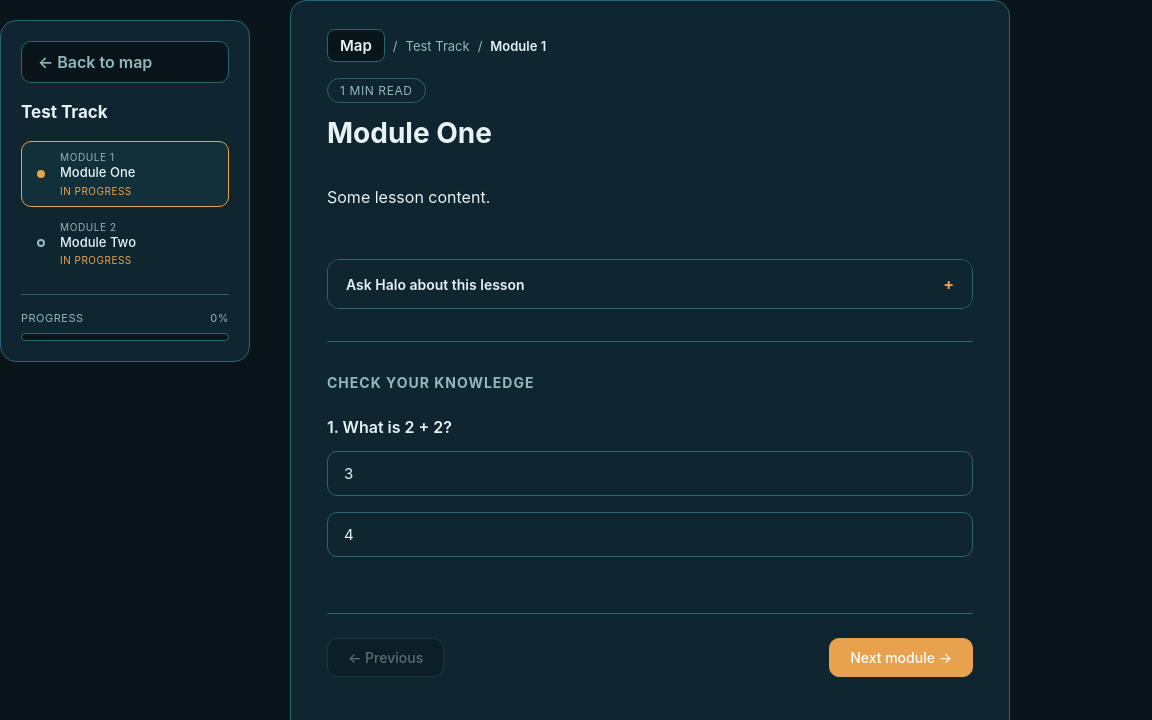
Test: ModuleLayout quiz › awards 3 stars on a first-try perfect run
What coordinates should you click on to do the following:
click the button "4"
I would click on:
 (349, 535)
Its box is [327, 512, 973, 557].
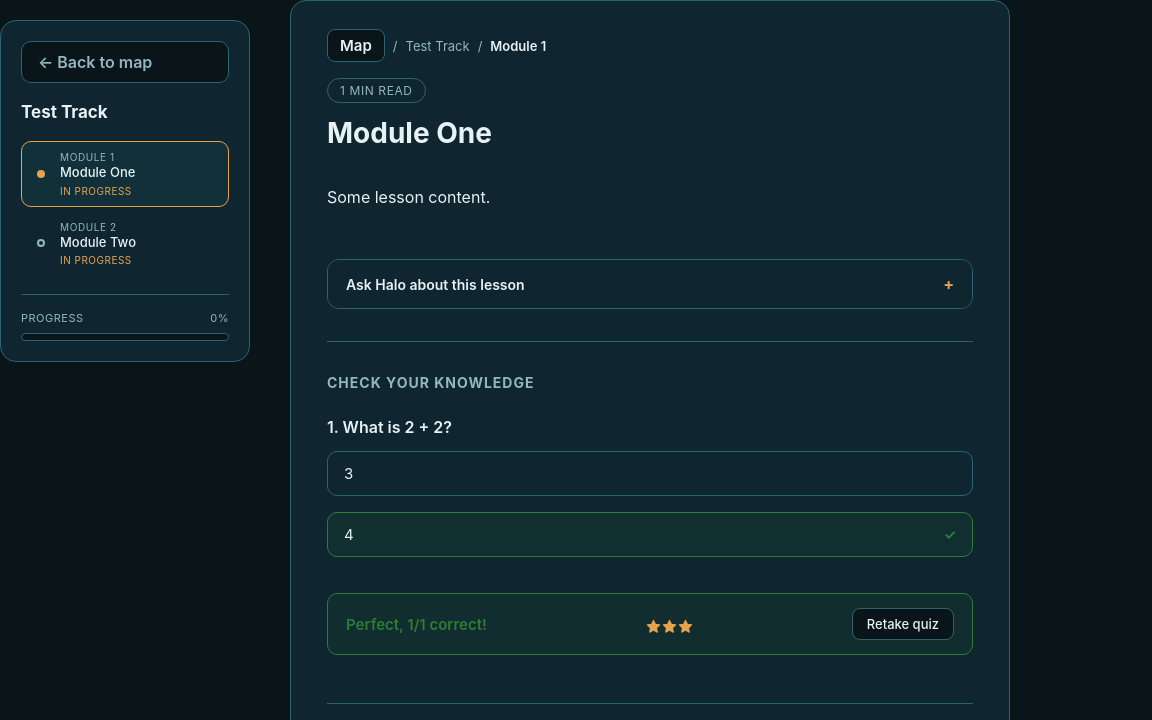
Now the element named "3 out of 3 stars" is shown, box [646, 619, 693, 638]
